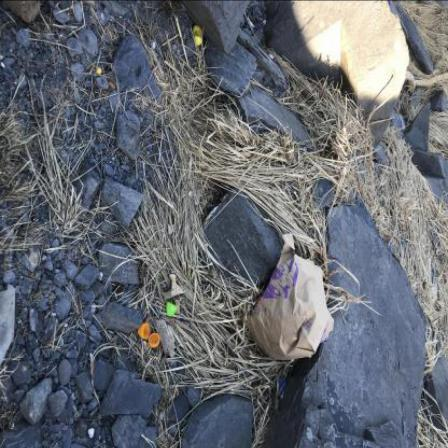Other litter: (248, 234, 335, 361)
Other plastic: (139, 323, 151, 339), (168, 302, 179, 317), (150, 334, 161, 349), (194, 25, 203, 37), (195, 37, 203, 46), (98, 70, 104, 76)
Unlabeled litter: (280, 378, 289, 400)
